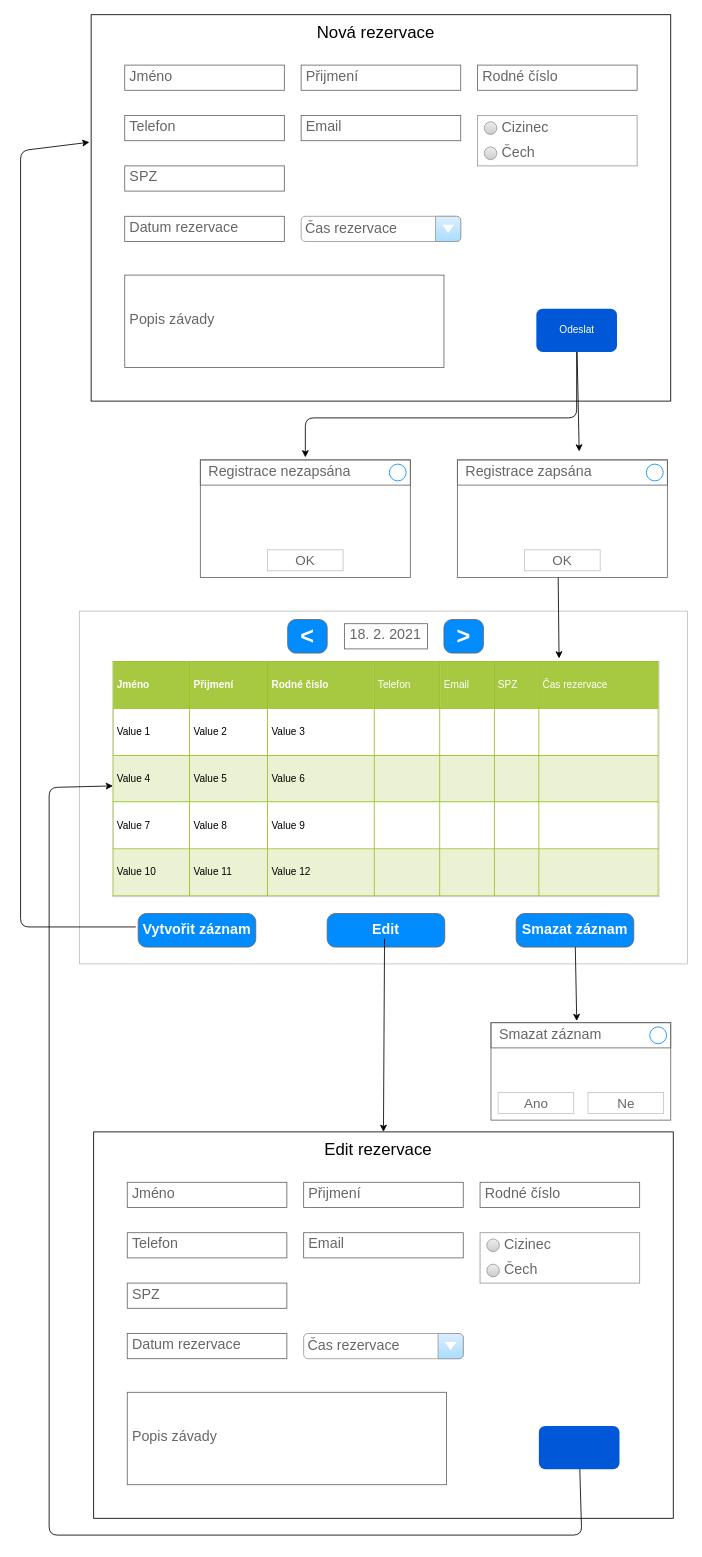
The diagram is 702 pixels wide and 1557 high, and some of its shapes have lost their labels. The shapes that lost their labels are listed below. From the top down, each one's centre as x and y in pixels, then its label:
At point 305,518: "Čas už je rezervován.".
At point 562,518: "Registrace byla zapsána úspěšně.".
At point 580,1071: "Jste si jistí?".
At point 578,1447: "Upravit".
